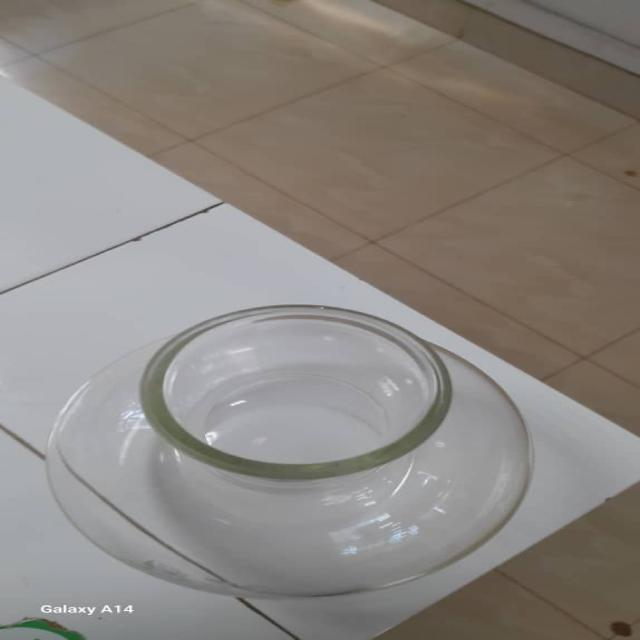Round Bottom Flask: (21, 296, 544, 612)
